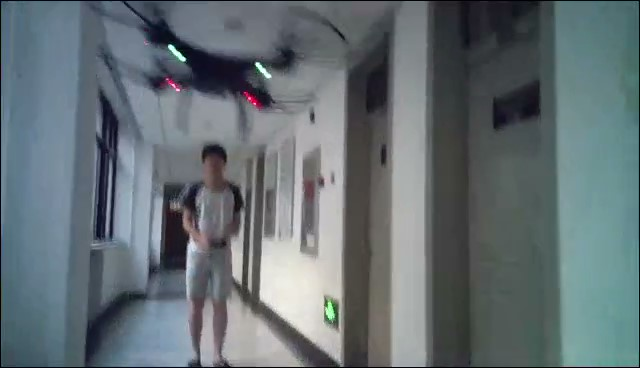drone: (81, 1, 352, 137)
person: (176, 141, 245, 368)
